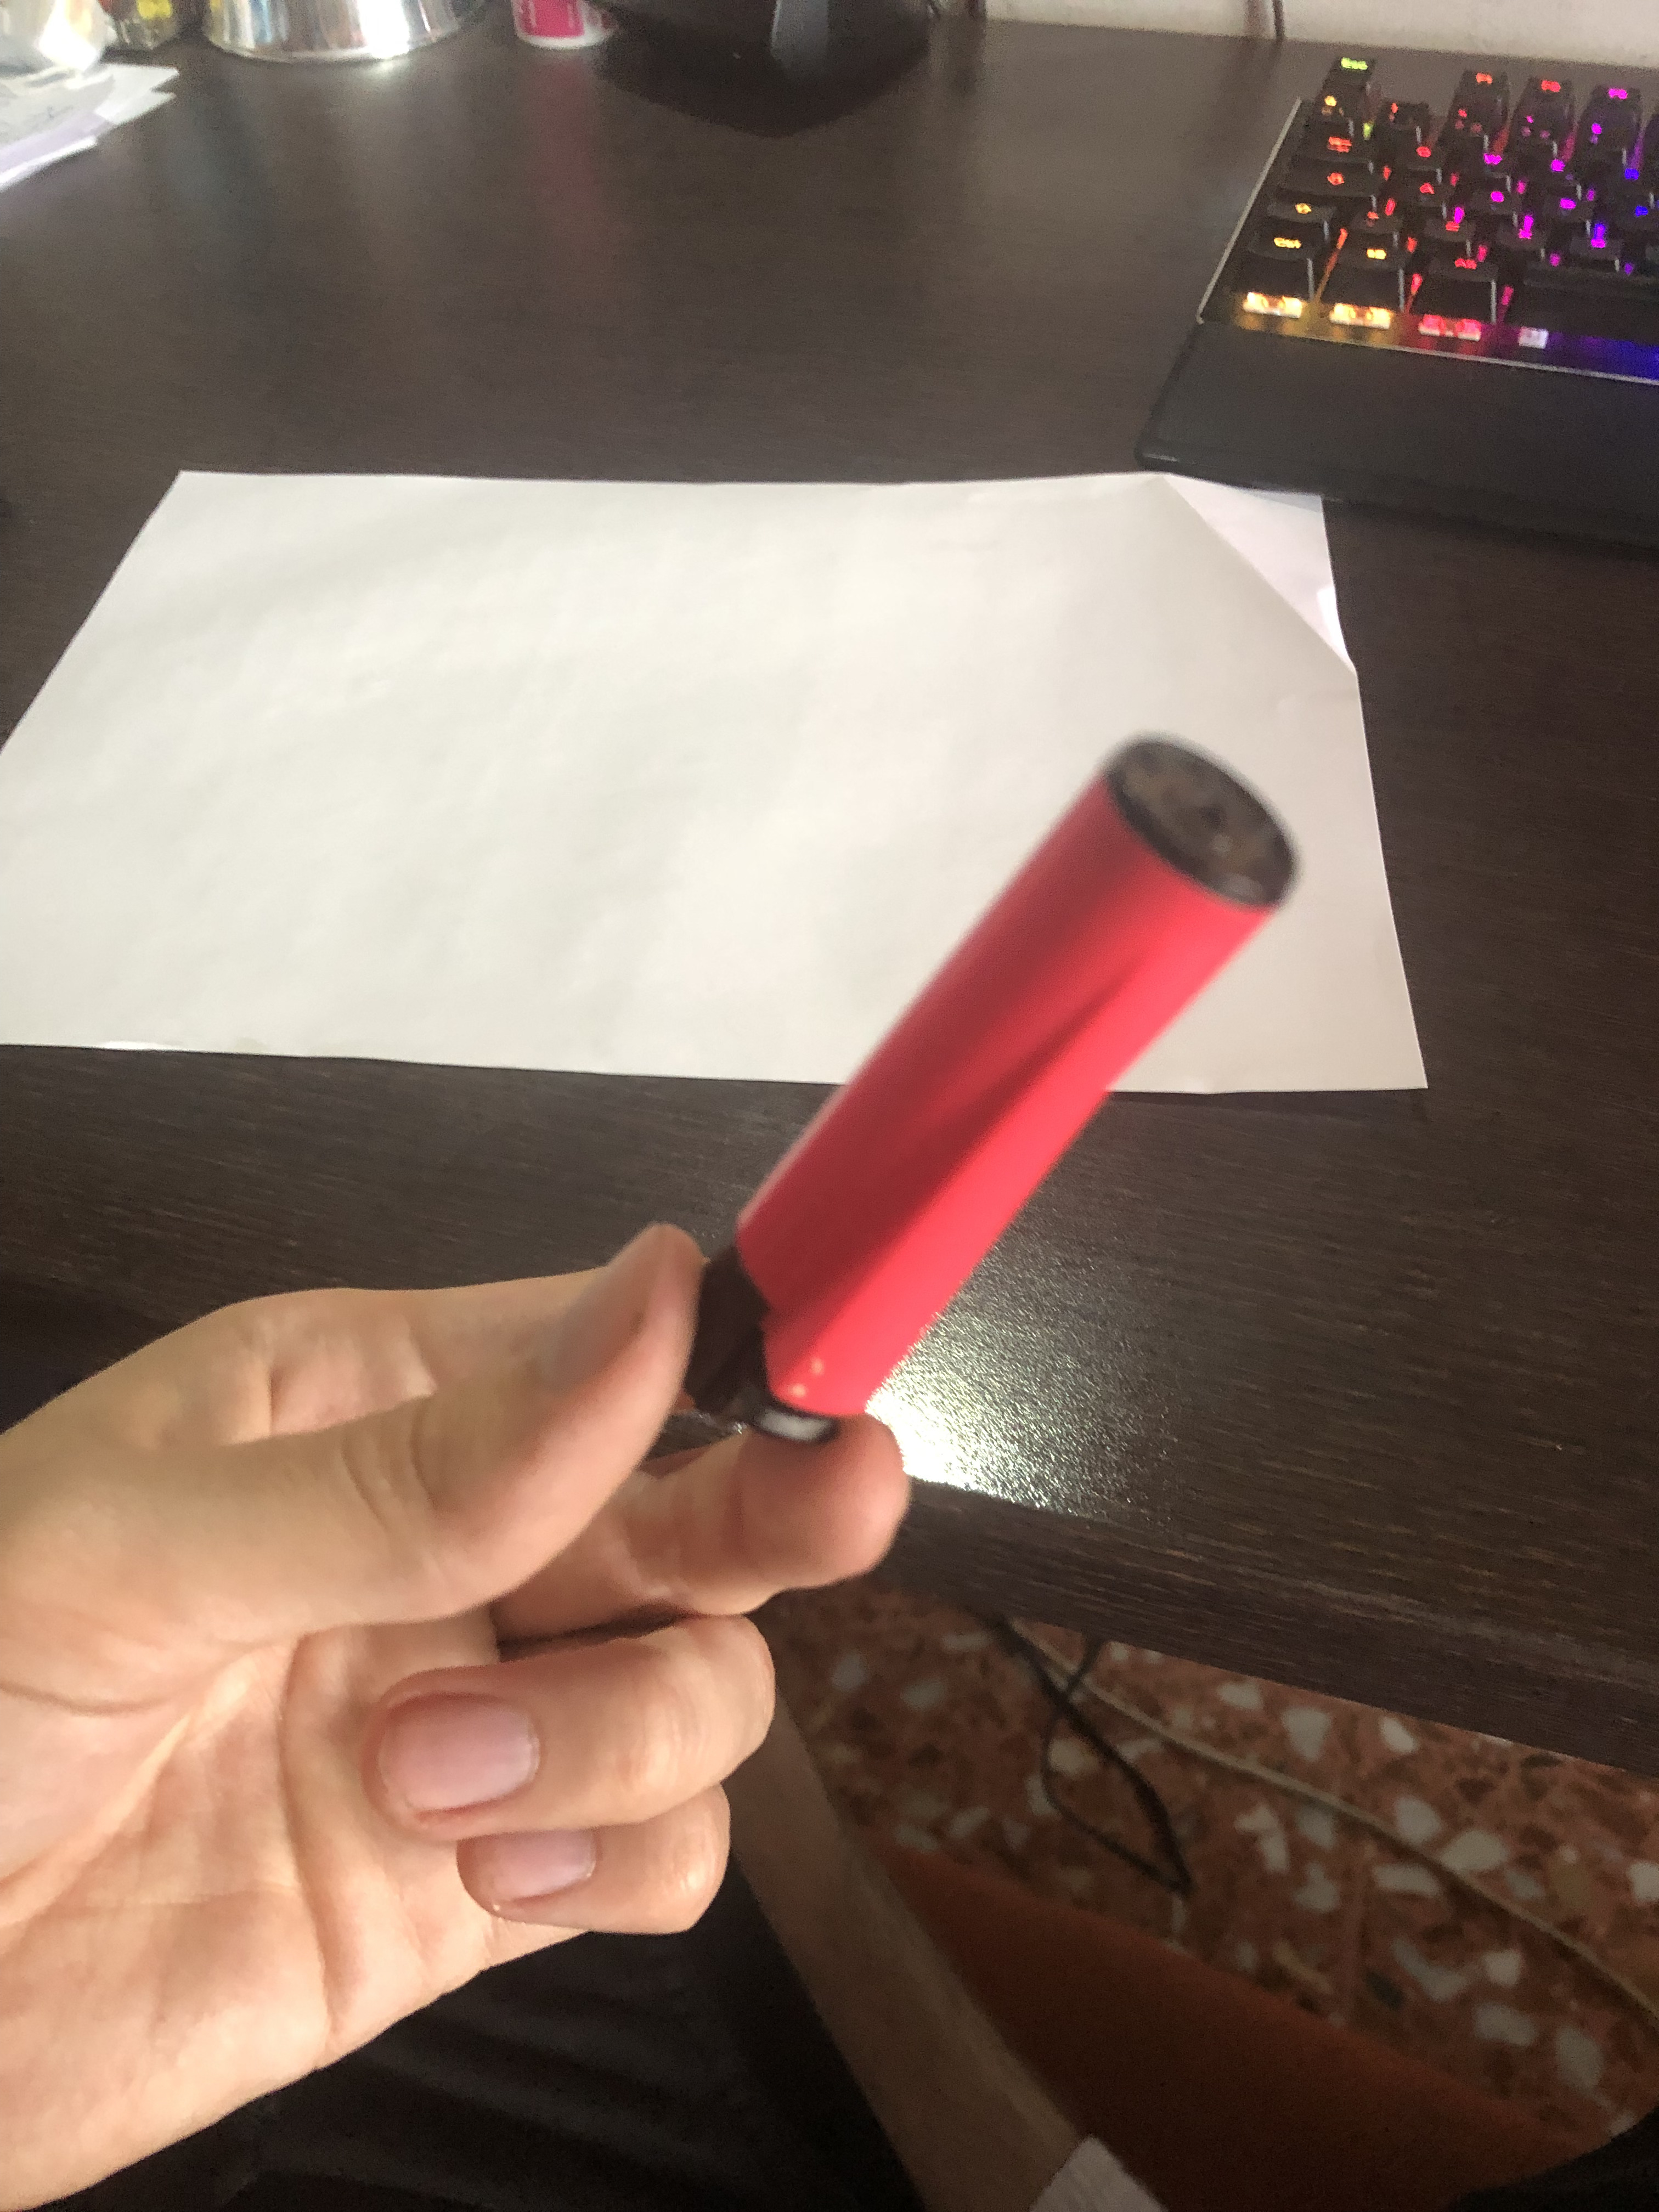Mechero: (683, 707, 1277, 1482)
